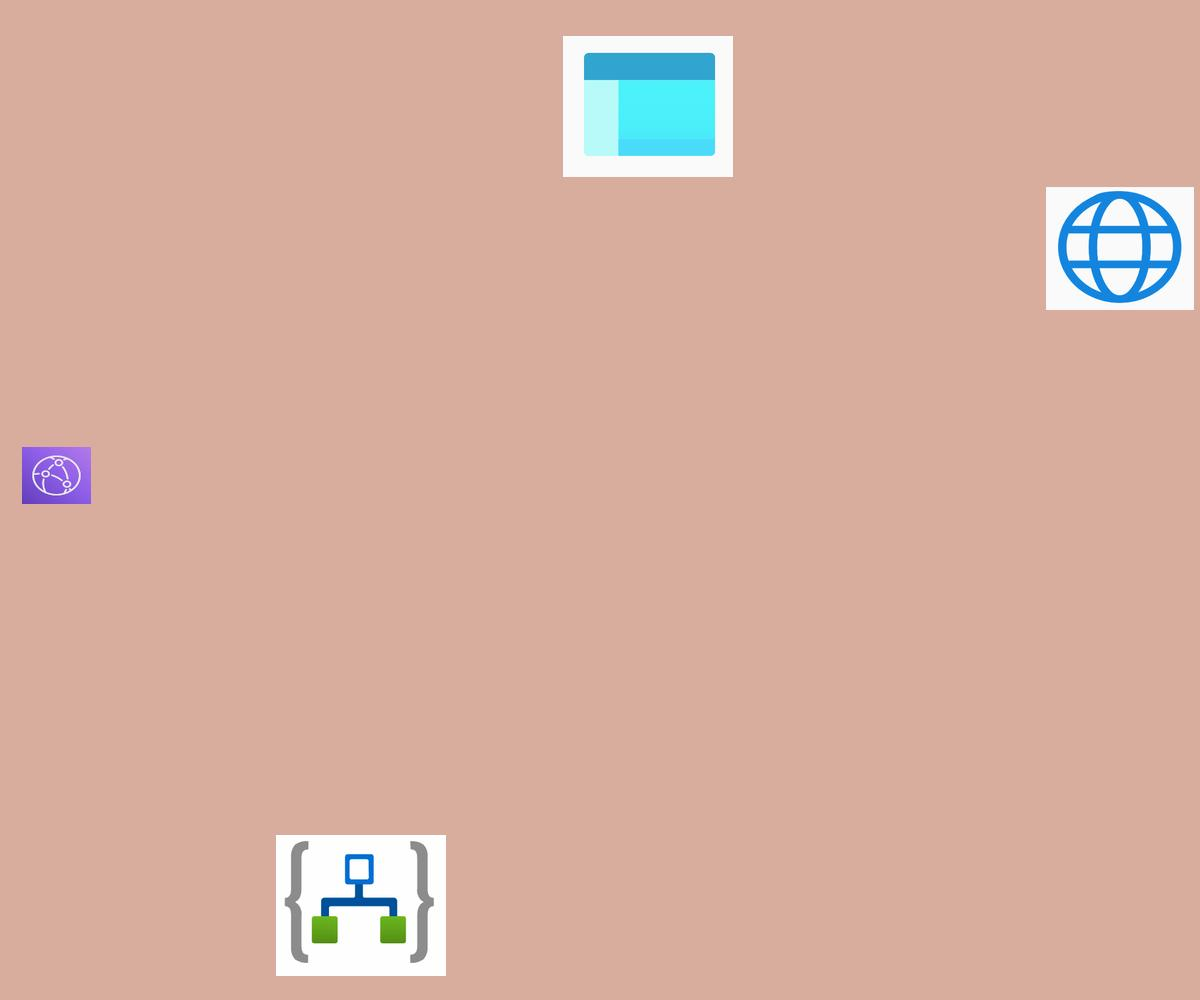AWS-CloudFront: (22, 447, 91, 504)
Azure_http: (1046, 187, 1194, 310)
Azure_integration-204-Logic-Apps: (276, 835, 446, 976)
Azure_management-portal: (563, 36, 733, 177)
